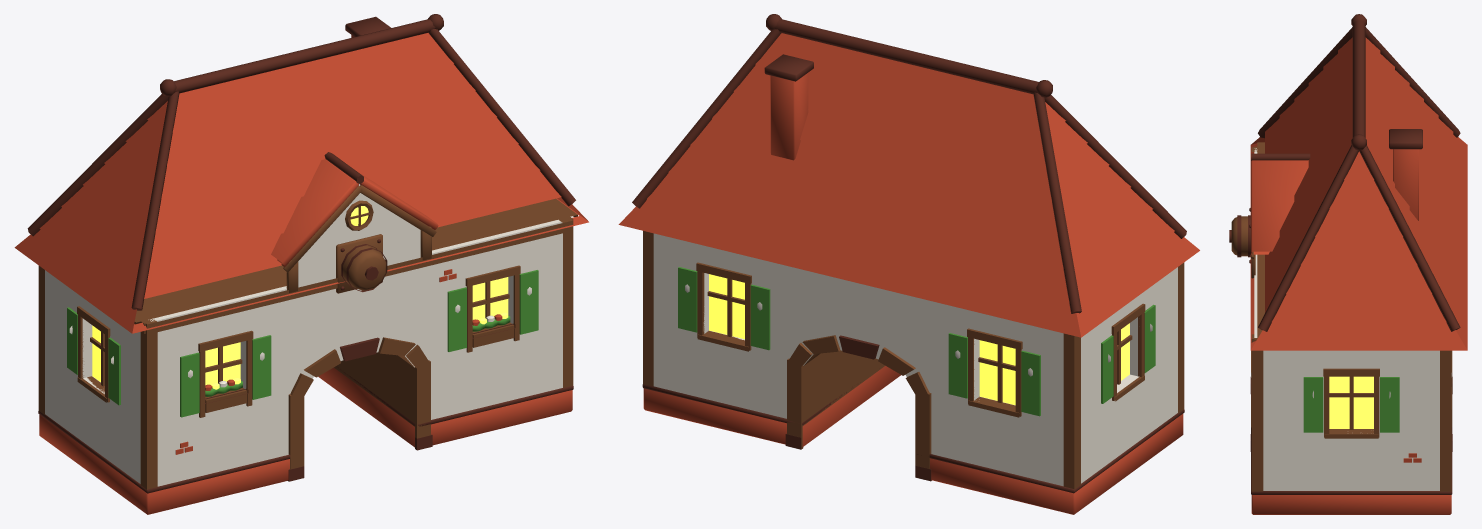
File: windmill_house.glb
3 views of the same model, side by side, from view 1: azimuth 30°, elevation 25°; view 2: azimuth 150°, elevation 25°; view 3: azimuth 270°, elevation 25° (orthographic). The views are drawn at different scales.
Visible parts, largest first — view 1: body; view 2: body; view 3: body.
Part boxes in pixels (left/top/right/bottom): body: left=14, top=14, right=588, bottom=514; body: left=618, top=14, right=1199, bottom=514; body: left=1229, top=14, right=1467, bottom=514.
Size of the model in its own units: 6.5 by 5.08 by 3.18.
